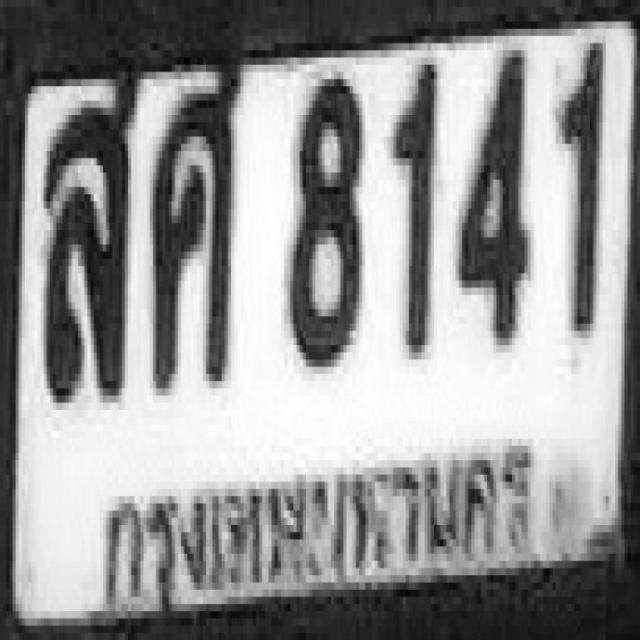1: (555, 35, 600, 330), (389, 56, 434, 350)
4: (454, 42, 525, 341)
8: (285, 70, 359, 361)
A38: (148, 55, 242, 382)
A40: (41, 70, 136, 395)
BKK: (91, 430, 544, 603)
